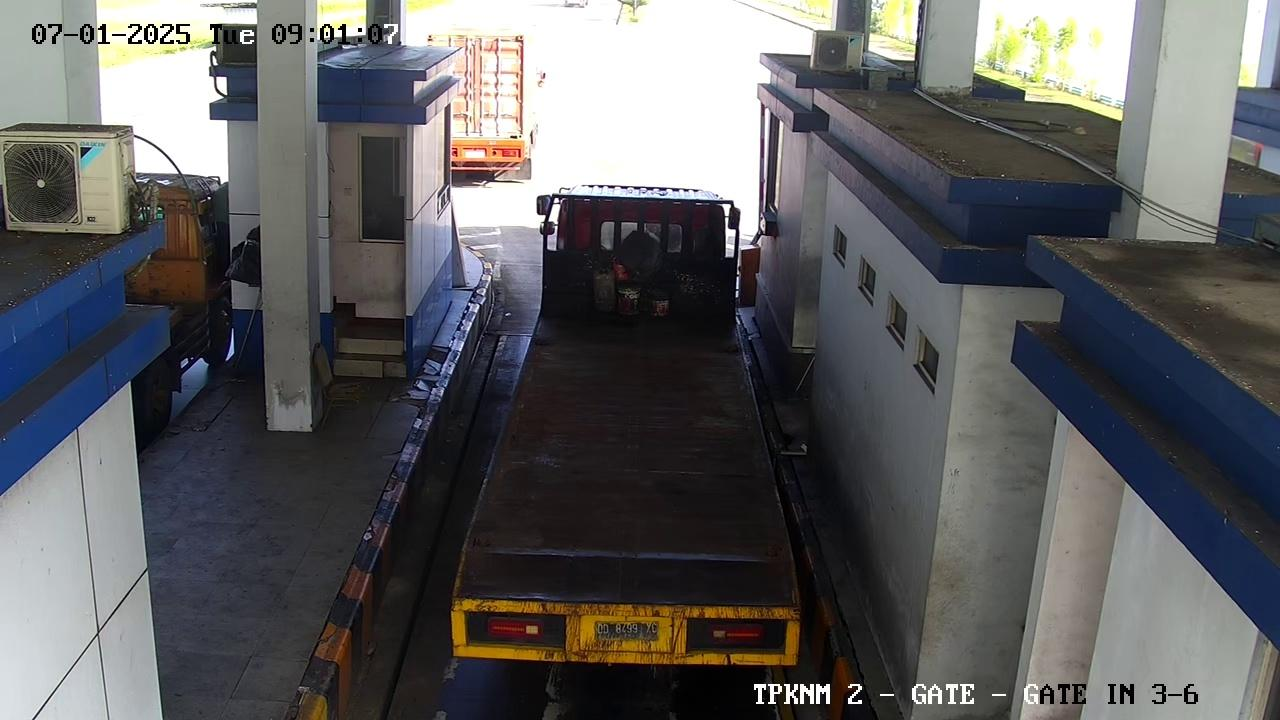plate_number: (585, 616, 667, 651)
